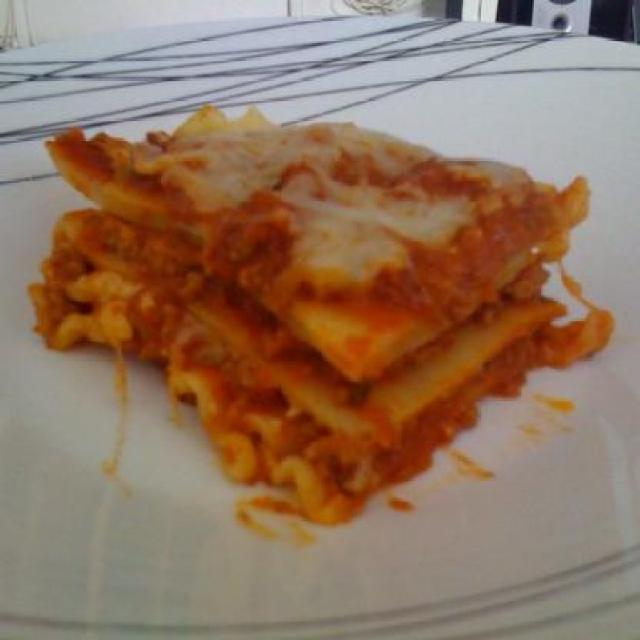Lasagna: (2, 98, 630, 538)
